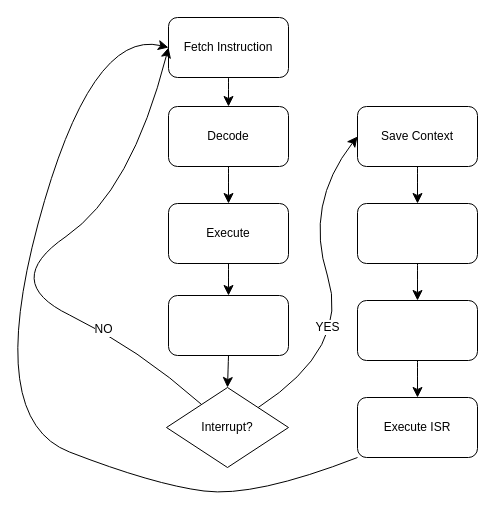
Image size: 495x510. Some labels were removed from this diagram. The shapes that lost their labels are listed below. From the top down, each one's centre as x and y in pixels, then its label:
At point (417, 233): "Get ID".
At point (228, 325): "Advance to Next".
At point (417, 330): "Lookup ISR".
